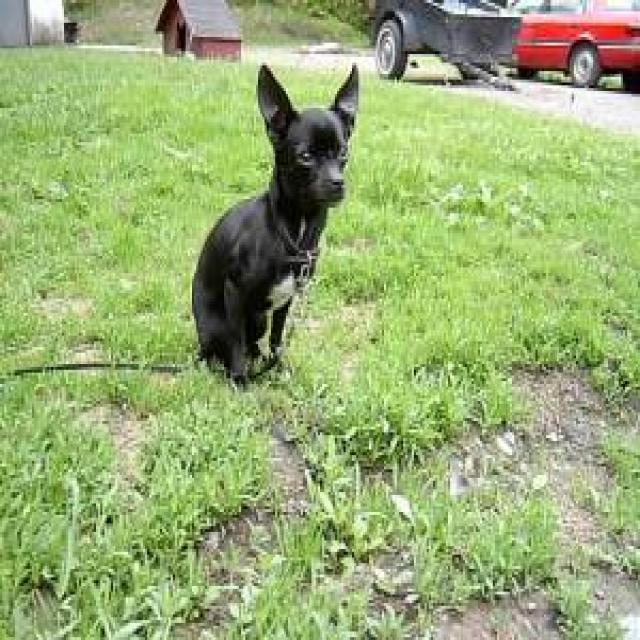dog-chihuahua: (183, 60, 365, 387)
